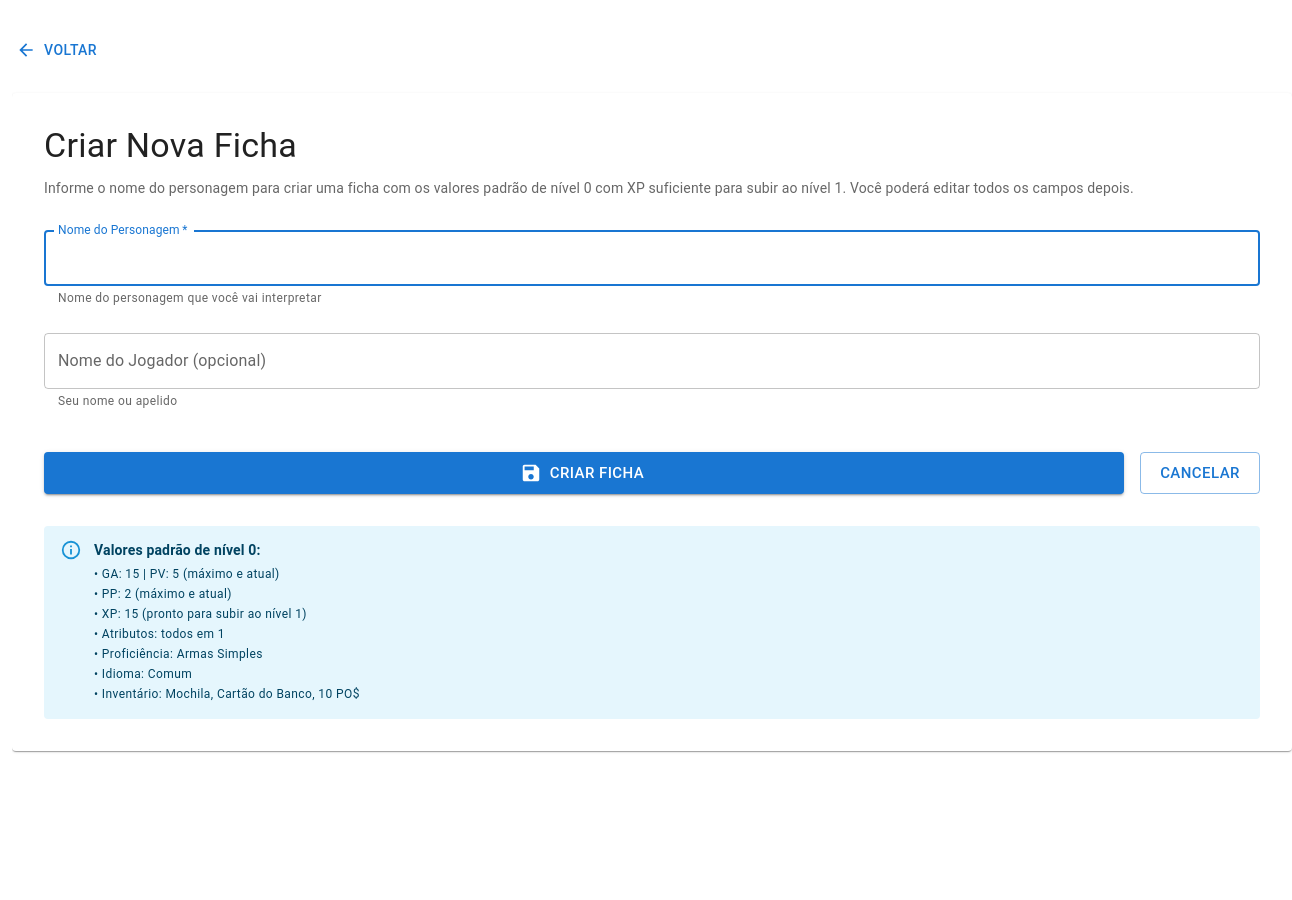
CharacterCreationForm › Feedback de Erro › deve permitir fechar mensagem de erro
Submit the form named "Criar Ficha", box x1=44 y1=230 x2=1260 y2=494
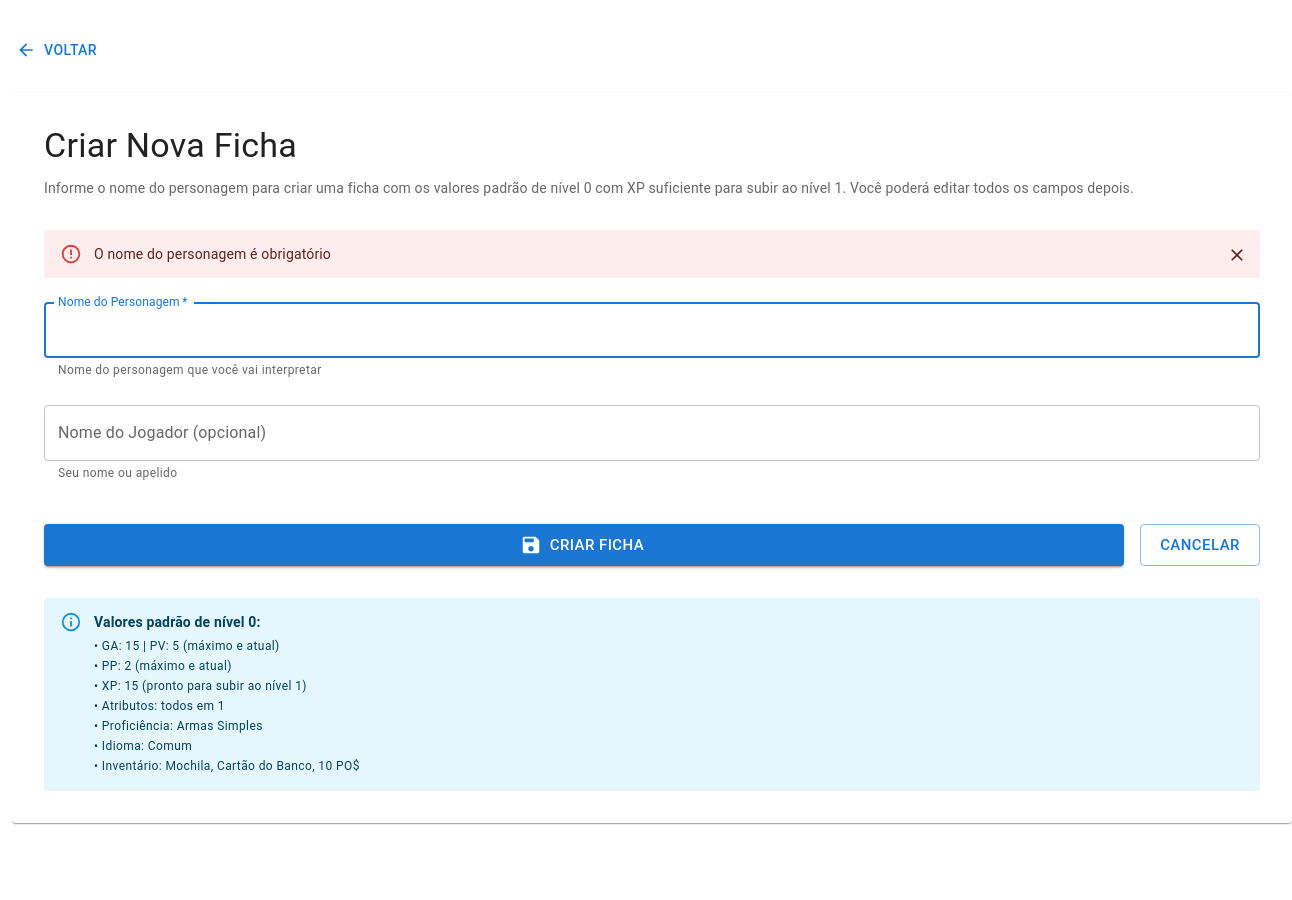
Now the text "O nome do personagem é obrigatório" is shown, box x1=94 y1=246 x2=331 y2=262
Click the button named "close": (1237, 255) x1=1222 y1=240 x2=1252 y2=270
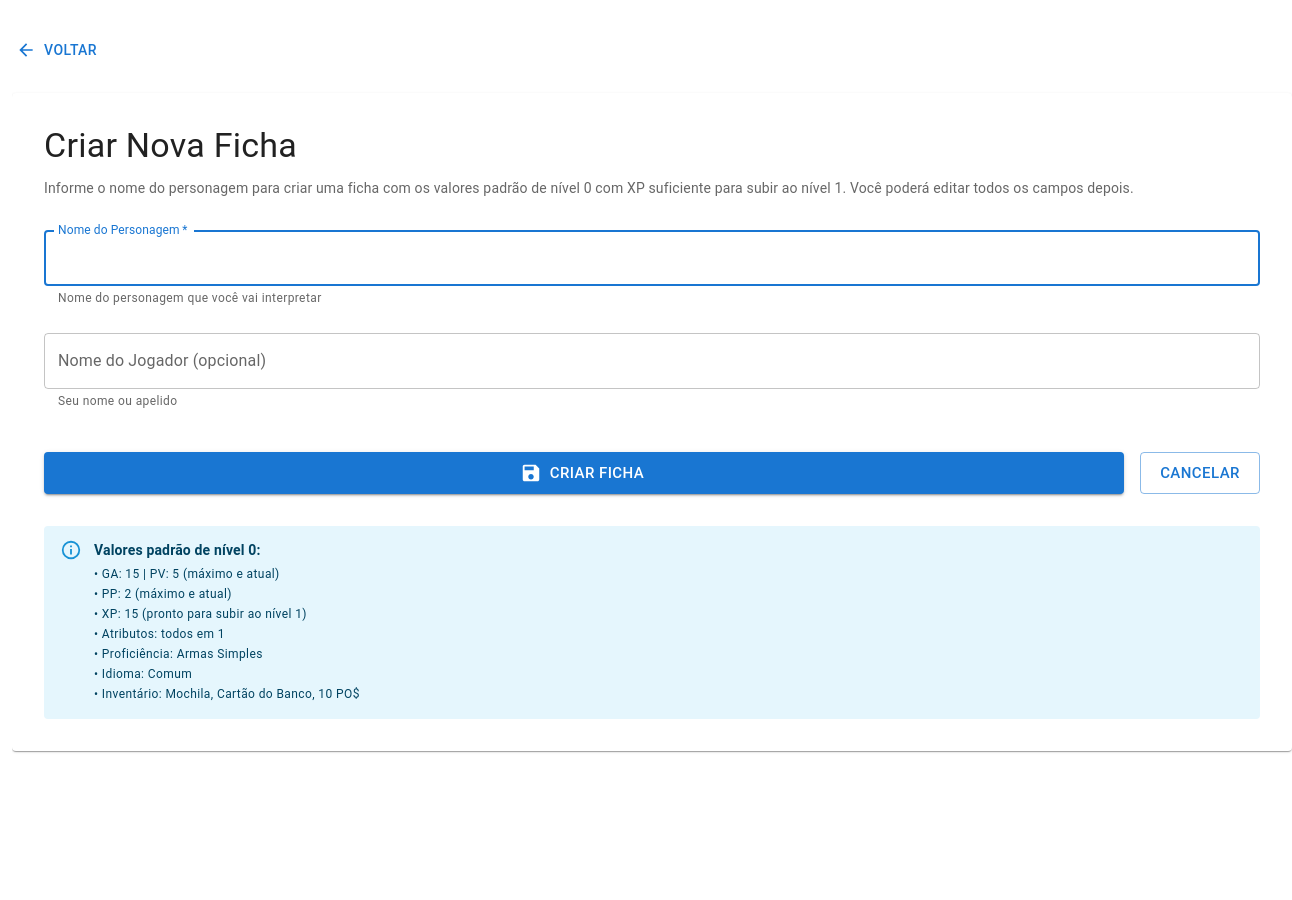
Now the text "O nome do personagem é obrigatório" is gone
